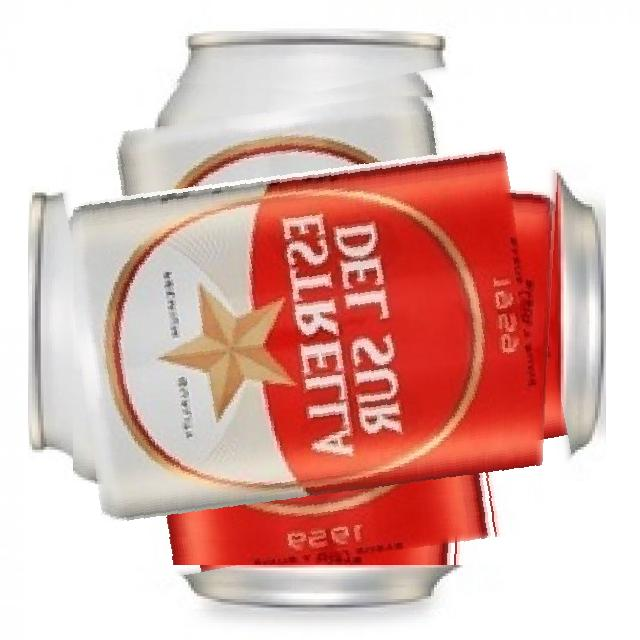recyclable: (73, 76, 561, 565)
